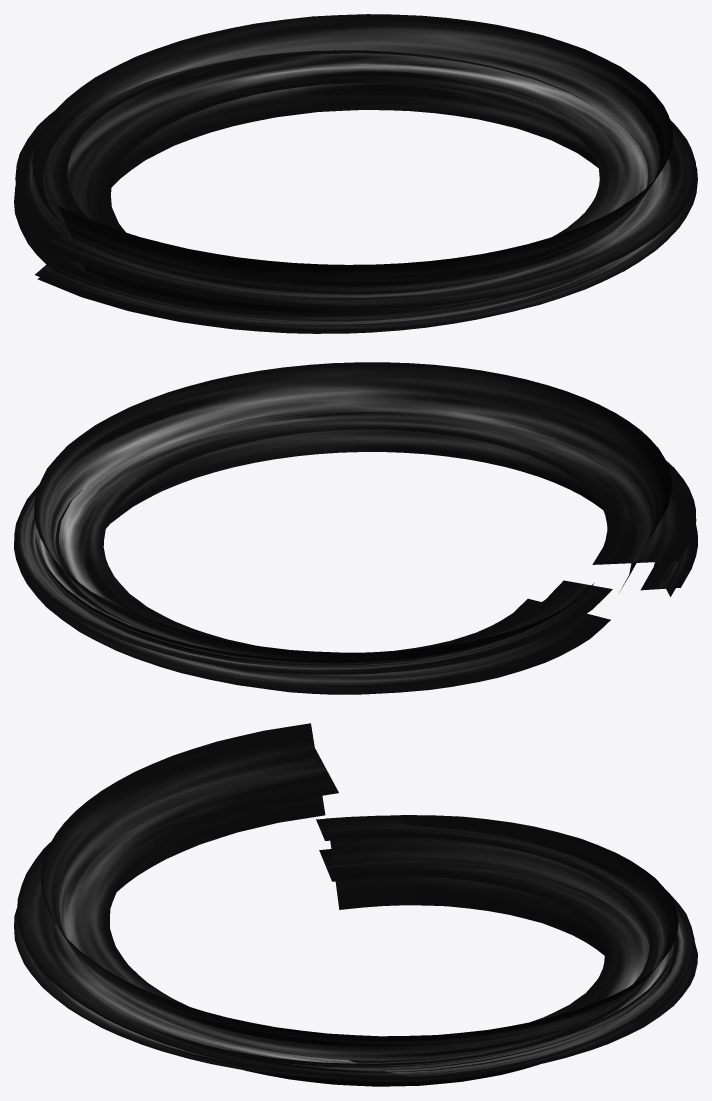
File: xiezi_luoxuanxian_02.FBX
The picture shows the model from 3 angles, top to bottom: view 1: azimuth 30°, elevation 25°; view 2: azimuth 150°, elevation 25°; view 3: azimuth 270°, elevation 25°; orthographic projection. The views are drawn at different scales.
Visible parts, largest first — view 1: Plane001_lxx_03, Plane001_lxx_04; view 2: Plane001_lxx_03, Plane001_lxx_04; view 3: Plane001_lxx_03, Plane001_lxx_04.
Boxes of the visible parts, left/top/right/bottom form: Plane001_lxx_03: left=14, top=14, right=696, bottom=312; Plane001_lxx_04: left=15, top=50, right=697, bottom=333; Plane001_lxx_03: left=14, top=362, right=696, bottom=694; Plane001_lxx_04: left=15, top=487, right=697, bottom=674; Plane001_lxx_03: left=17, top=723, right=697, bottom=1086; Plane001_lxx_04: left=14, top=815, right=694, bottom=1079.
Size of the model in its own units: 612 by 127 by 587.
